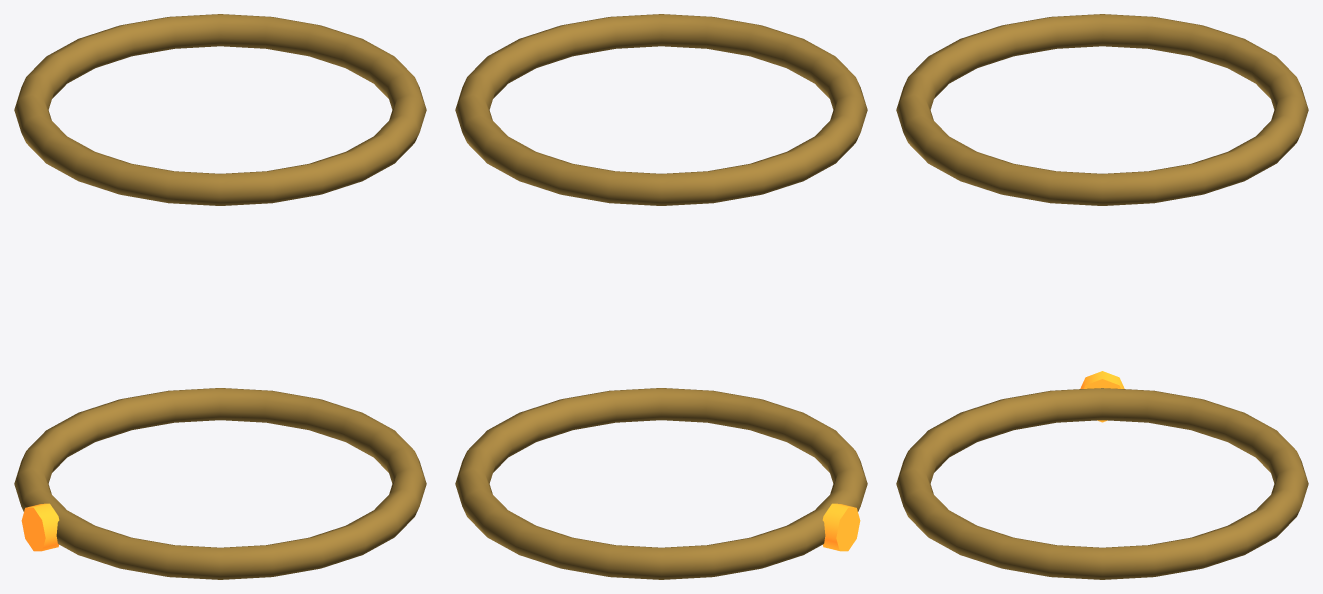
Rendered from tower_overclock_potency_s2.glb.
The picture shows the model from 3 angles, left to right: view 1: azimuth 30°, elevation 25°; view 2: azimuth 150°, elevation 25°; view 3: azimuth 270°, elevation 25°; orthographic projection.
Visible parts, largest first — view 1: overclock_conductor1.98, overclock_conductor1.5, overclock_up_potency_l2_stud; view 2: overclock_conductor1.98, overclock_conductor1.5, overclock_up_potency_l2_stud; view 3: overclock_conductor1.98, overclock_conductor1.5, overclock_up_potency_l2_stud.
Part boxes in pixels (bbox=[...]): overclock_conductor1.98: bbox=[14, 14, 426, 205]; overclock_conductor1.5: bbox=[14, 388, 426, 579]; overclock_up_potency_l2_stud: bbox=[21, 503, 59, 551]; overclock_conductor1.98: bbox=[455, 14, 867, 205]; overclock_conductor1.5: bbox=[455, 388, 867, 579]; overclock_up_potency_l2_stud: bbox=[822, 503, 860, 551]; overclock_conductor1.98: bbox=[896, 14, 1308, 205]; overclock_conductor1.5: bbox=[896, 388, 1308, 579]; overclock_up_potency_l2_stud: bbox=[1080, 371, 1124, 422].
Bounding box in the file's own units: 0.491 × 0.528 × 0.48.
